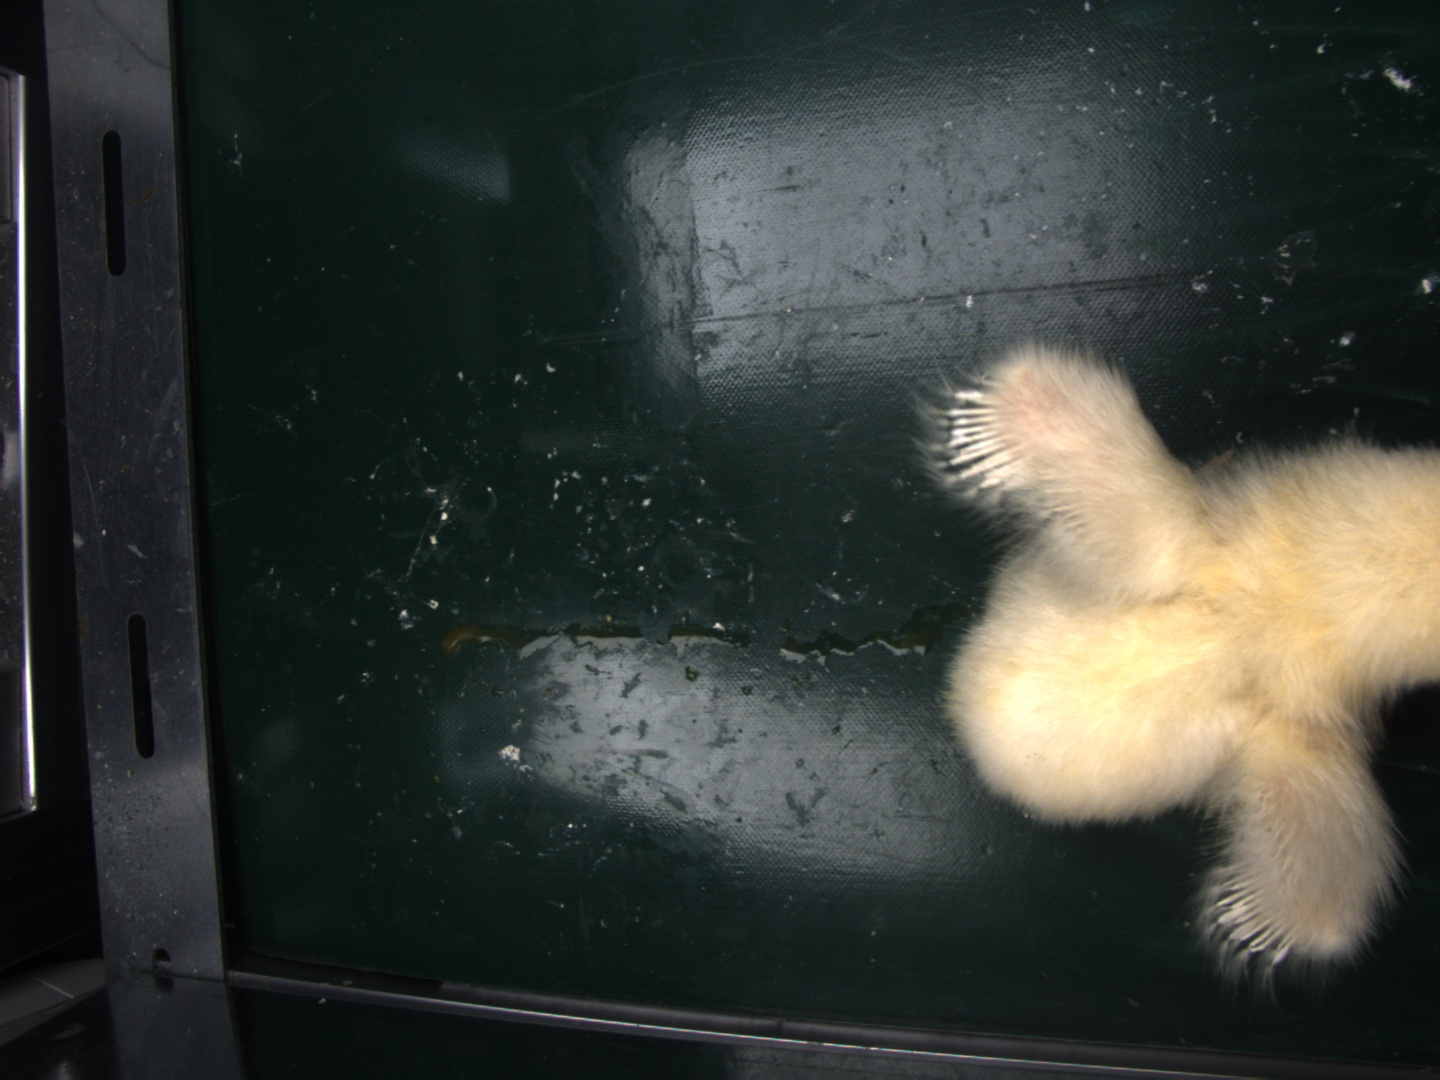male: (938, 391, 1018, 490), (1218, 872, 1294, 959)
